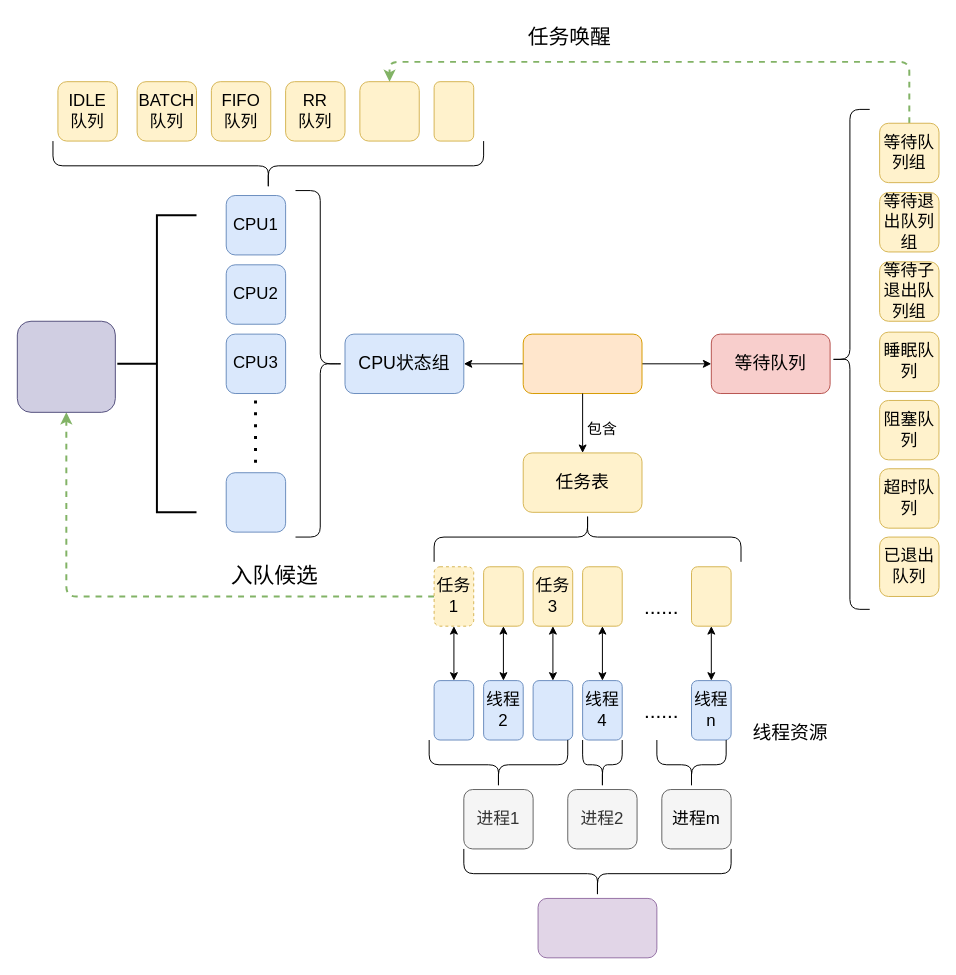
The diagram is 956 pixels wide and 975 high, and some of its shapes have lost their labels. The box of each missing label's shape, as (x1, y1, x2, y2) in pixels:
CPUn: (225, 472, 286, 532)
OTHER 队列: (359, 81, 419, 141)
任 务 2: (483, 566, 523, 626)
任 务 4: (582, 566, 622, 626)
任 务 n: (691, 566, 731, 626)
当前任务: (433, 81, 474, 141)
线程1: (433, 680, 474, 740)
线程3: (532, 680, 573, 740)
调度器: (522, 333, 642, 394)
负载均衡: (16, 320, 115, 412)
进程表: (537, 897, 657, 958)
选择CPU入队: (116, 214, 197, 513)
